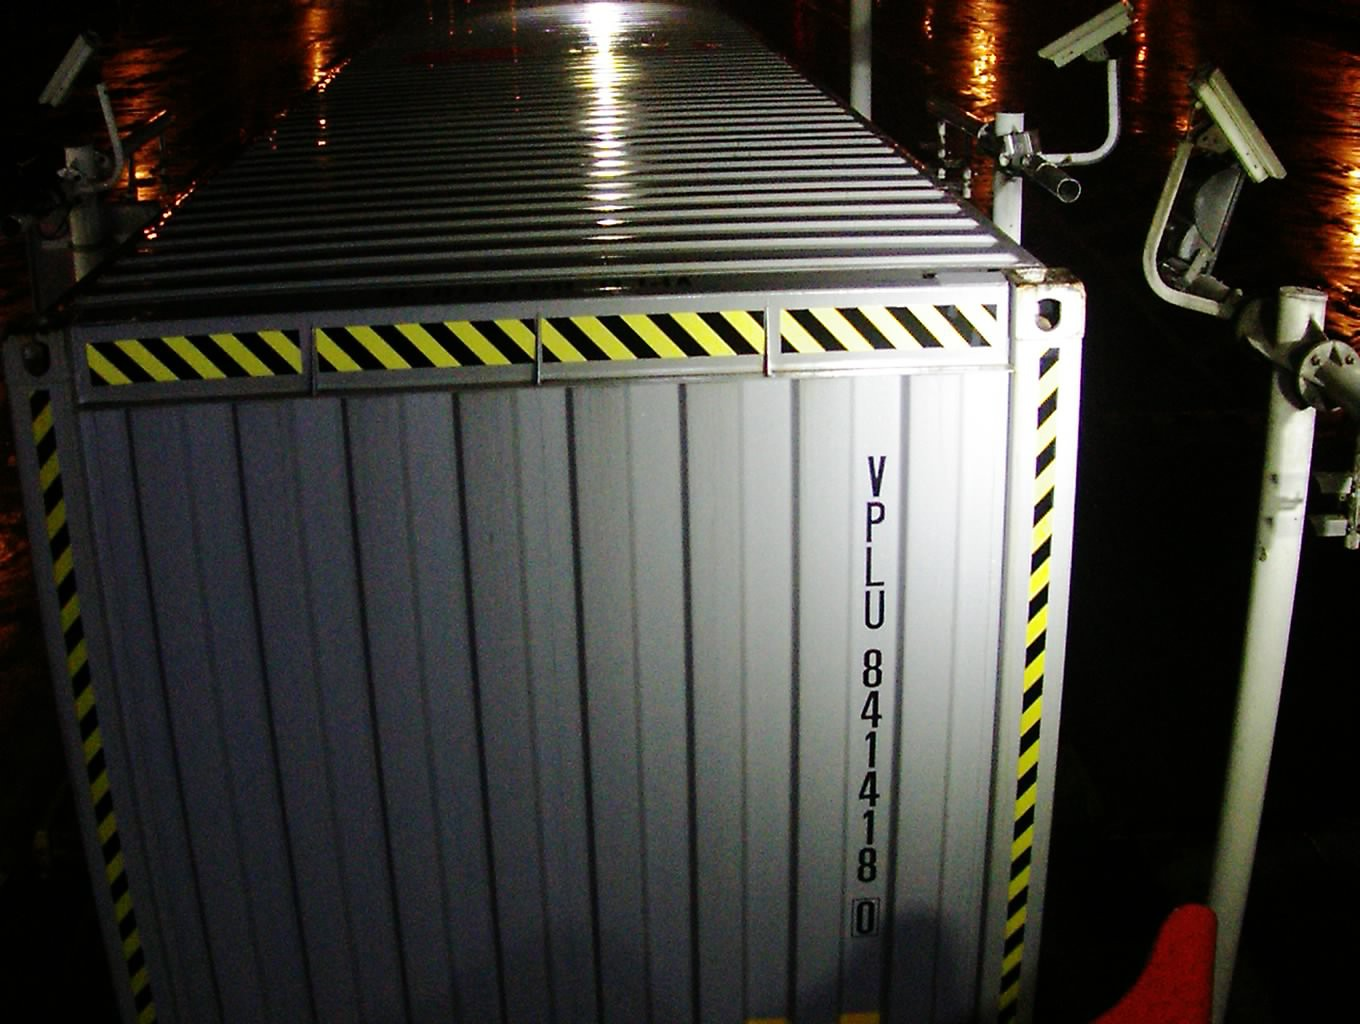words: (844, 443, 893, 945)
